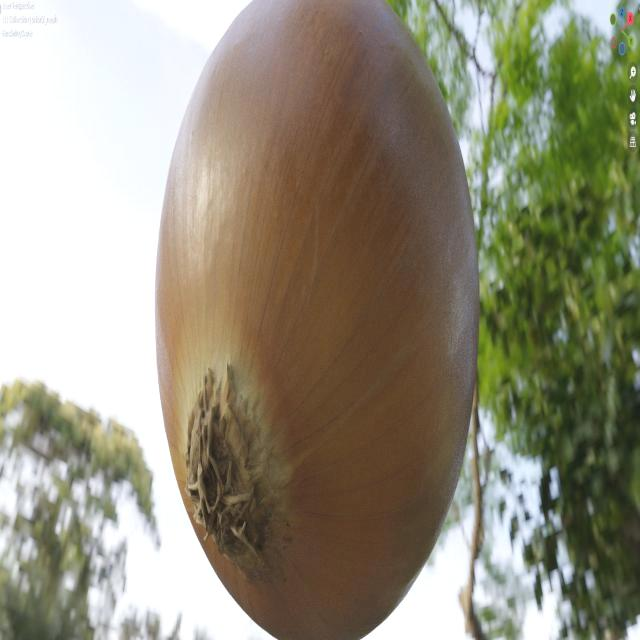onion: (154, 1, 484, 633)
